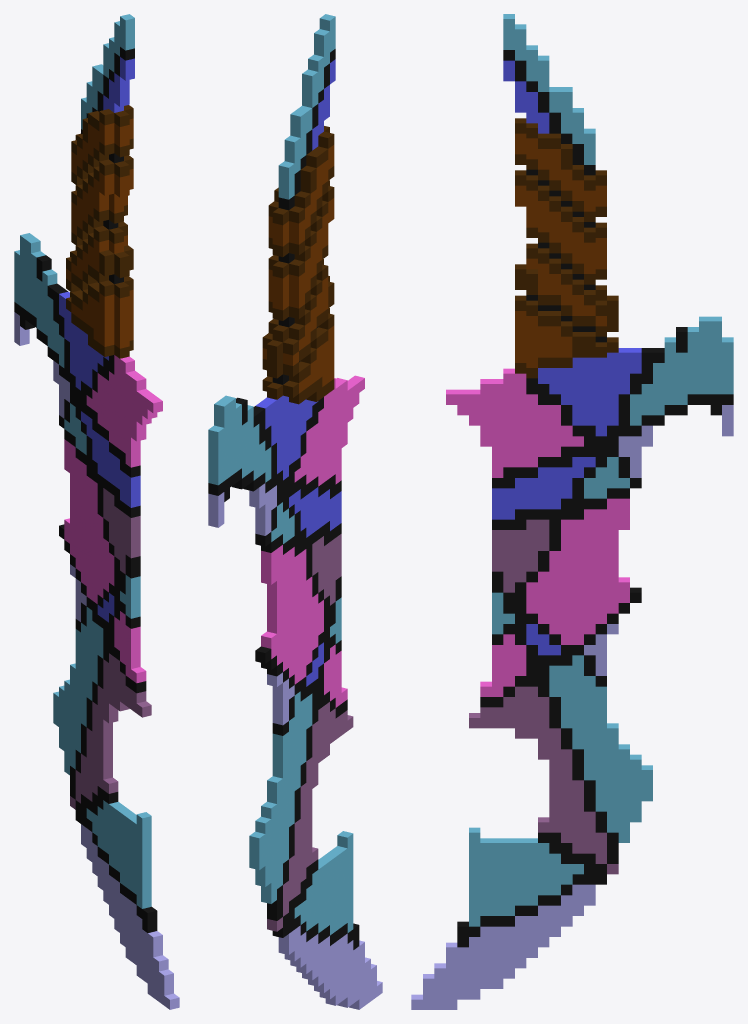
Rendered from StainedGlass.obj.
3 renders of one model, left to right at view 1: azimuth 30°, elevation 25°; view 2: azimuth 150°, elevation 25°; view 3: azimuth 270°, elevation 25°, orthographic. The views are drawn at different scales.
Size of the model in its own units: 0.3 by 9.5 by 2.8.
1 material, 1 textured.
